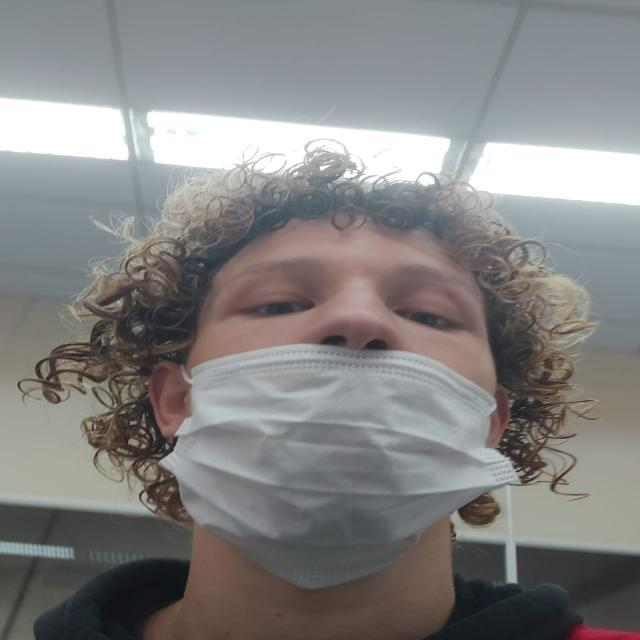hairnet: (181, 196, 504, 550)
